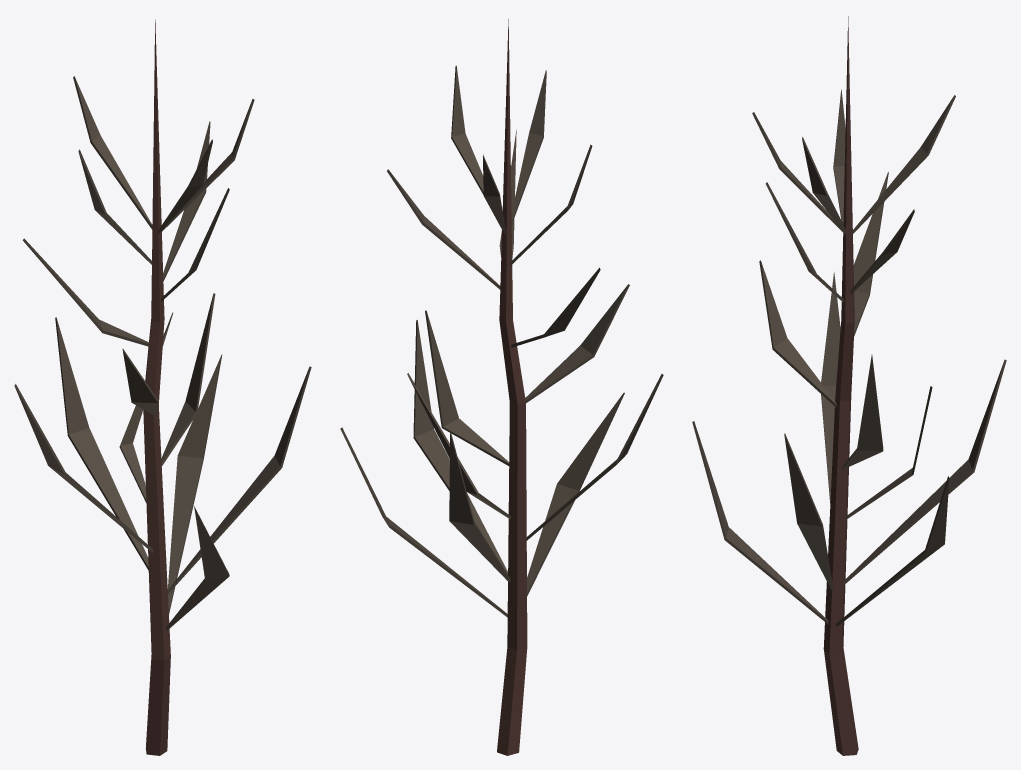
File: Plant_2.glb
3 renders of one model, left to right at view 1: azimuth 30°, elevation 25°; view 2: azimuth 150°, elevation 25°; view 3: azimuth 270°, elevation 25°, orthographic.
Bounding box in the file's own units: 0.6859 × 1.77 × 0.6859.
